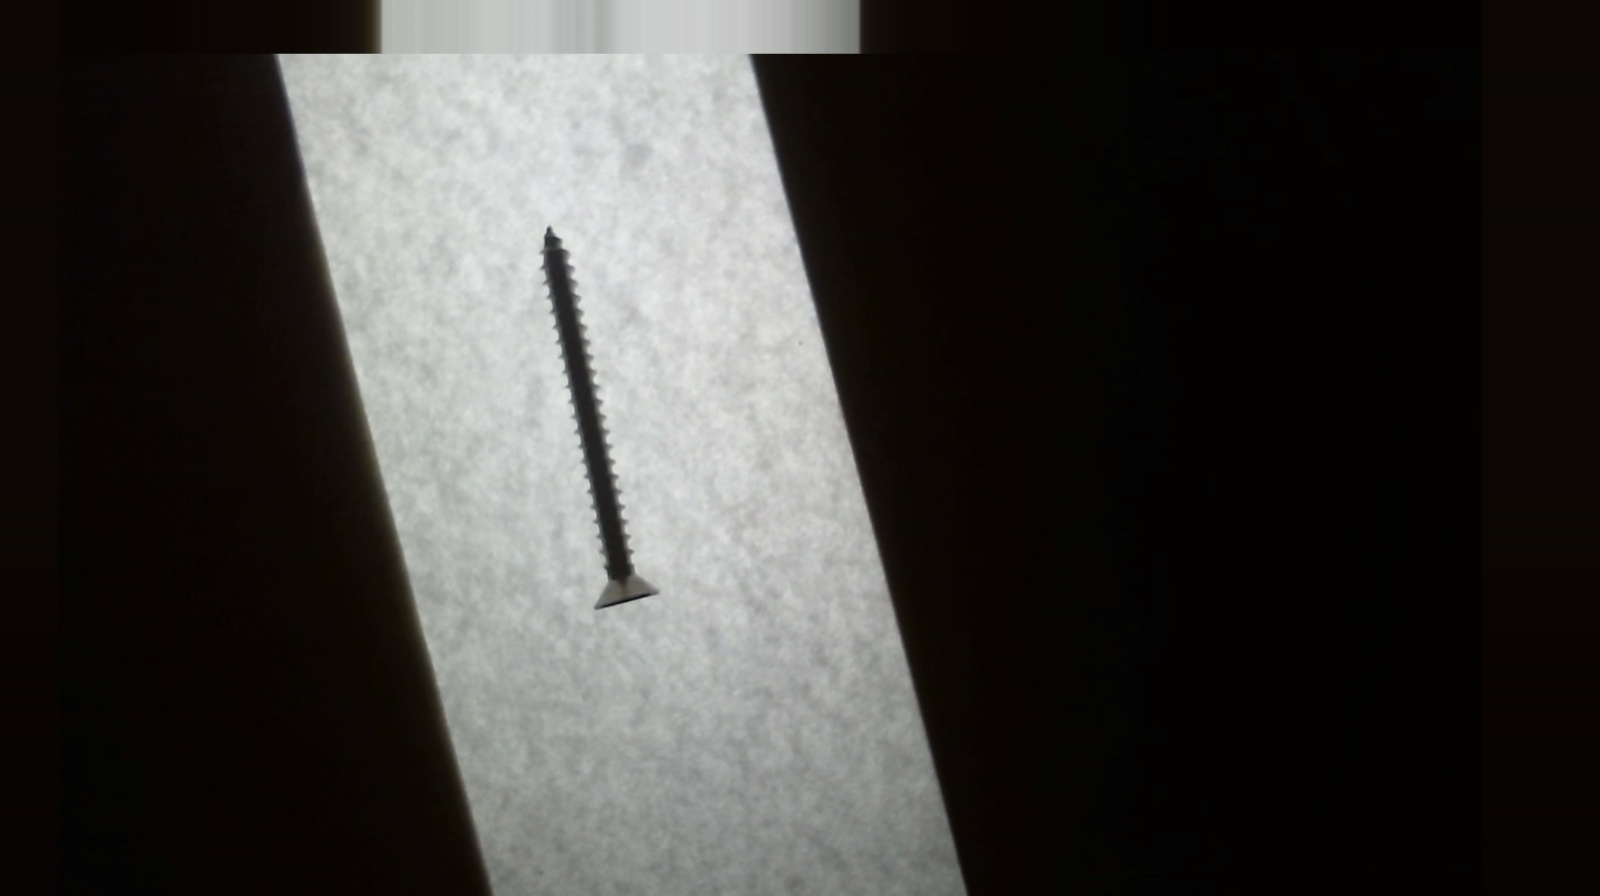S002: (527, 226, 666, 617)
